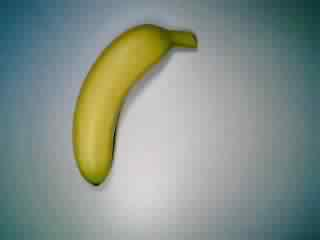banana: (69, 19, 201, 189)
